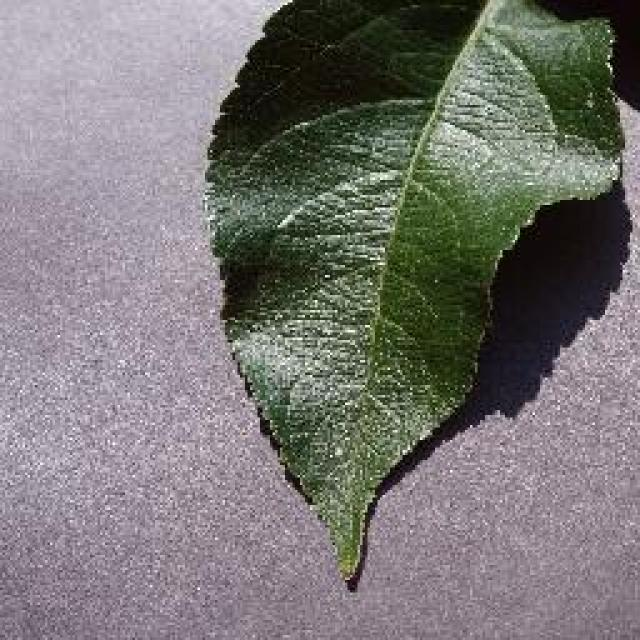apple healthy: (198, 0, 632, 590)
